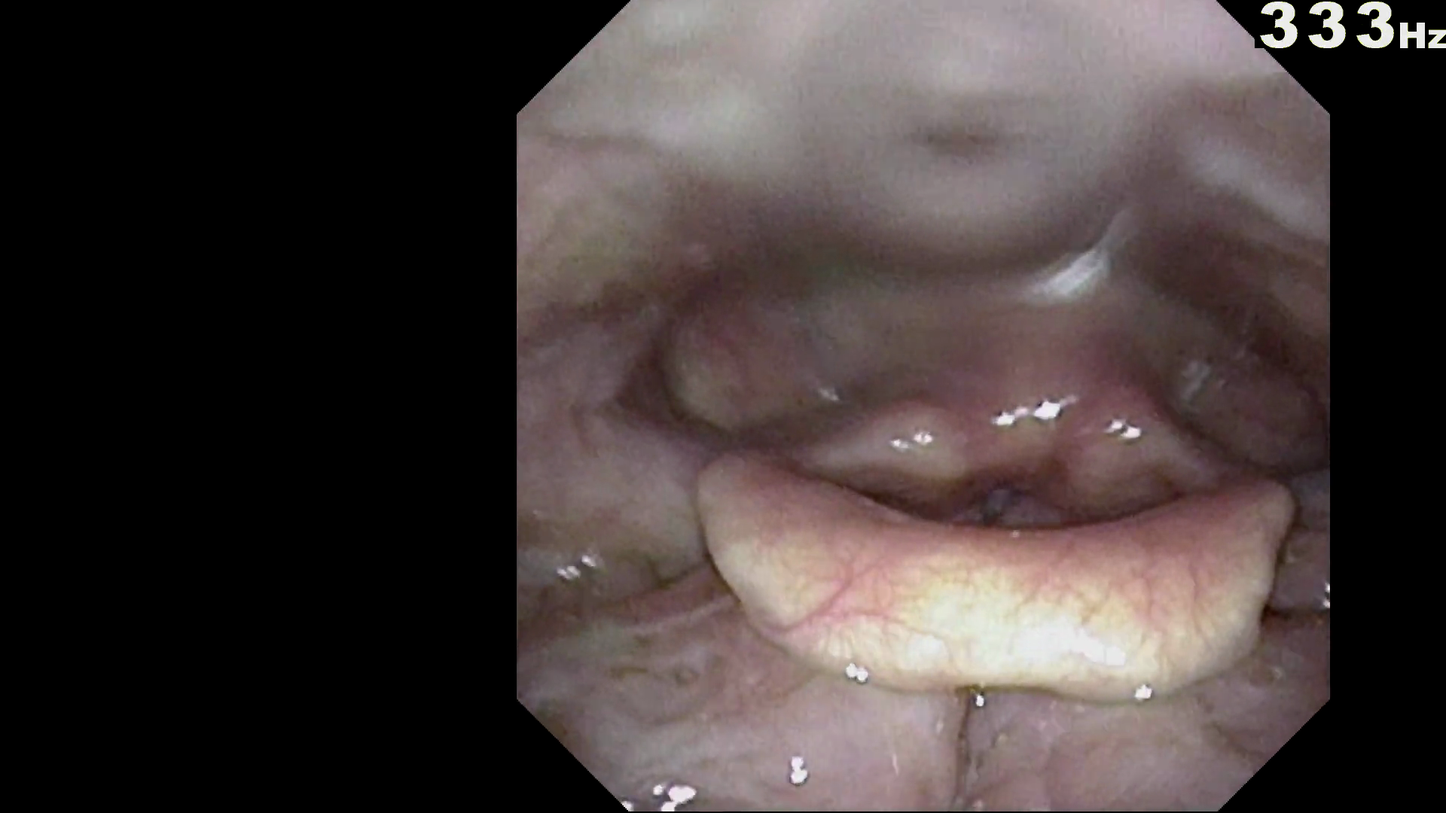epiglottis: (683, 465, 1292, 690)
trachea: (970, 487, 1033, 548)
